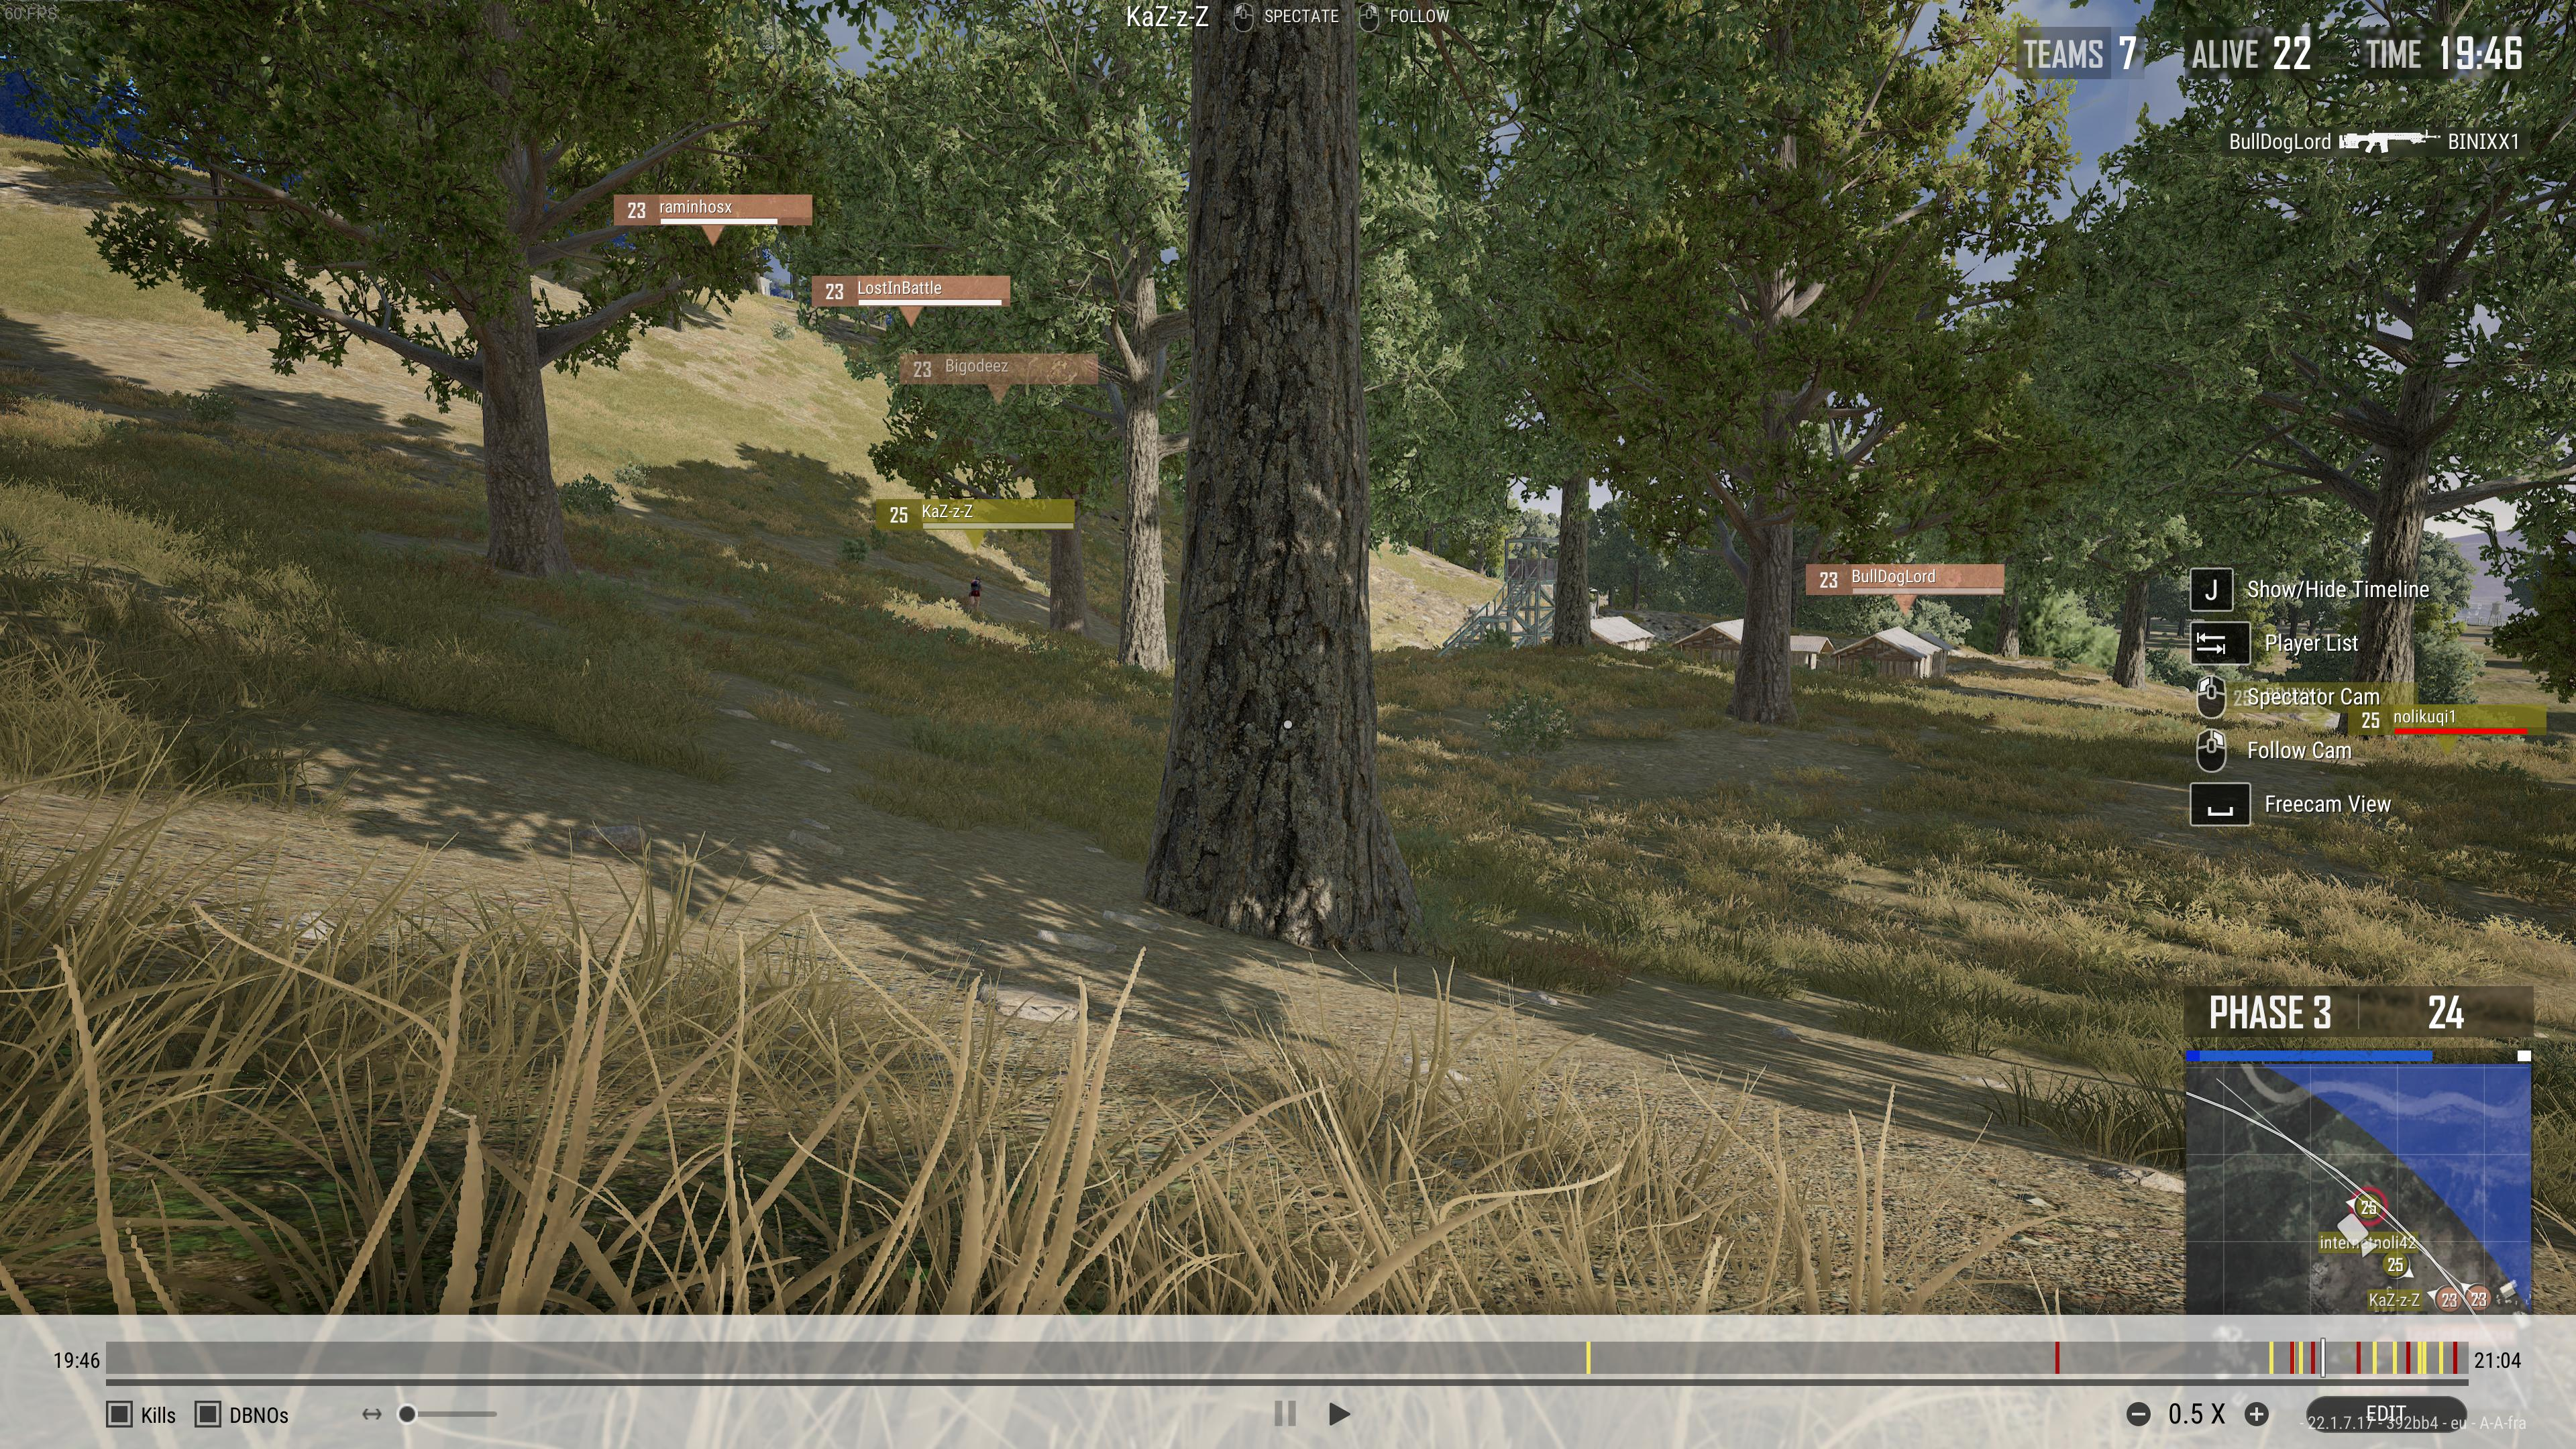enemy: (968, 575, 982, 609)
enemy_head: (975, 575, 980, 580)
